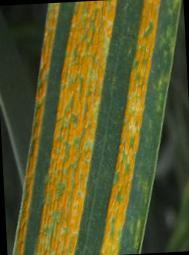Wheat: (98, 1, 164, 252), (56, 3, 120, 91), (49, 95, 101, 159), (44, 170, 83, 250)
